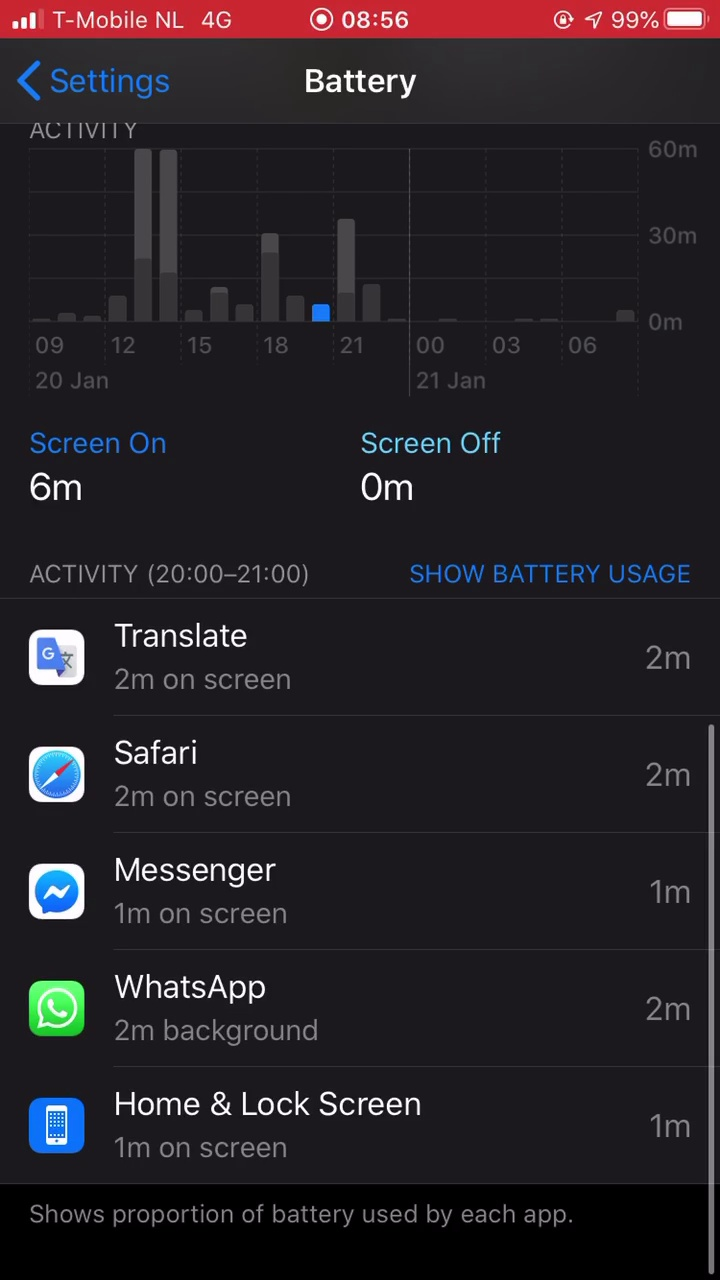activity: (24, 556, 317, 593)
app: (17, 618, 699, 707), (15, 726, 697, 815), (15, 840, 697, 929), (11, 967, 693, 1056), (9, 1077, 691, 1166)
